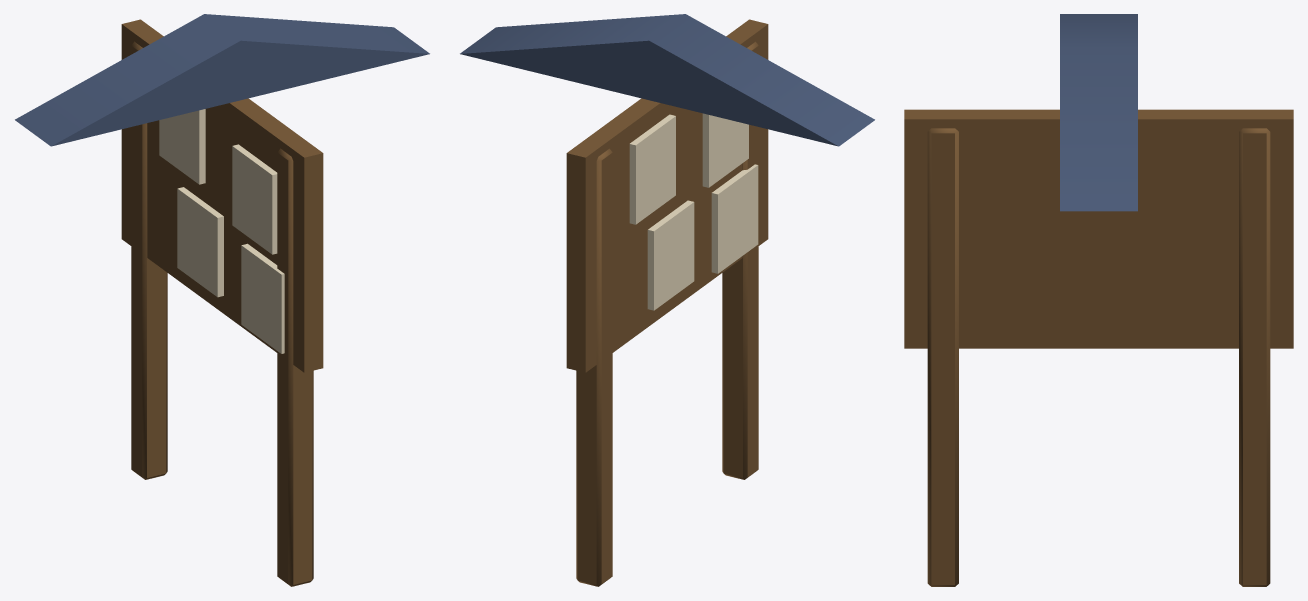
Rendered from board.glb.
3 views of the same model, side by side, from view 1: azimuth 30°, elevation 25°; view 2: azimuth 150°, elevation 25°; view 3: azimuth 270°, elevation 25° (orthographic). The views are drawn at different scales.
Visible parts, largest first — view 1: building; view 2: building; view 3: building.
Boxes of the visible parts, x1=… form: building: x1=15, y1=14, x2=429, y2=586; building: x1=460, y1=14, x2=874, y2=586; building: x1=904, y1=14, x2=1293, y2=586.
Size of the model in its own units: 1.2 by 1.51 by 1.
